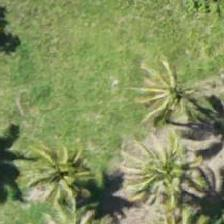coconut_tree: (124, 51, 214, 141), (30, 130, 120, 220), (133, 140, 223, 223)
